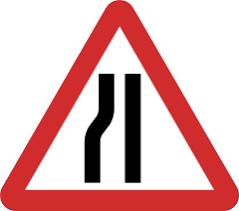narrow_road: (2, 0, 237, 210)
